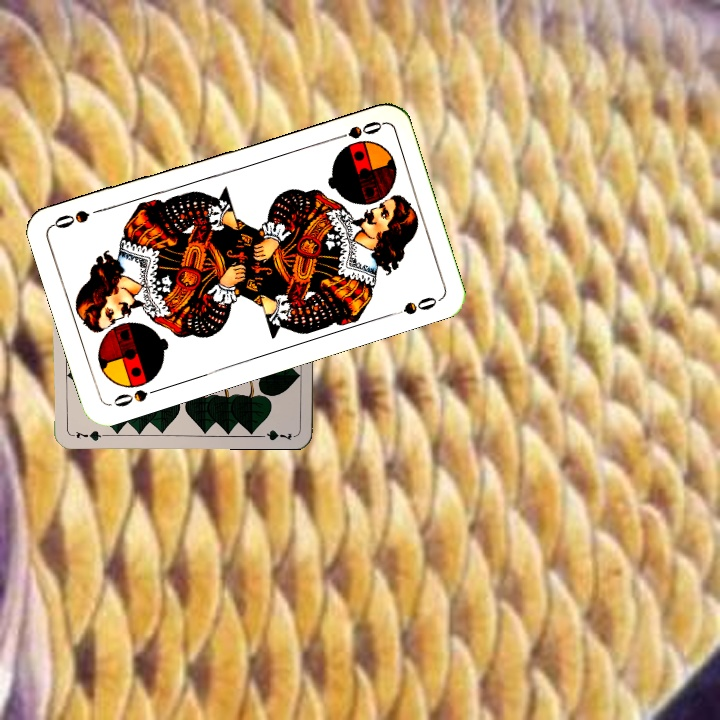G7: (68, 427, 108, 444)
SO: (326, 117, 385, 144), (109, 383, 165, 410)
